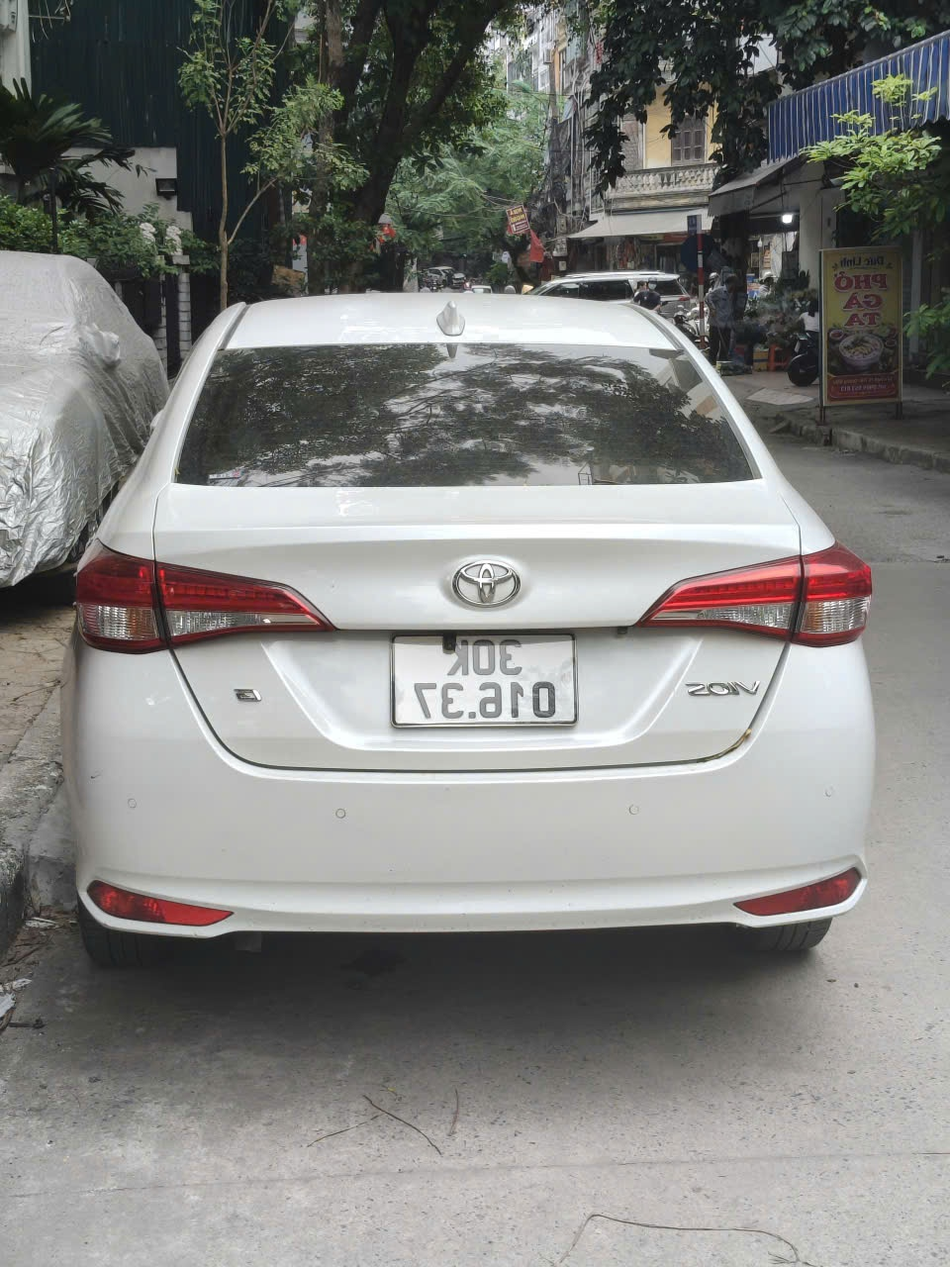plate: (520, 342, 674, 374)
